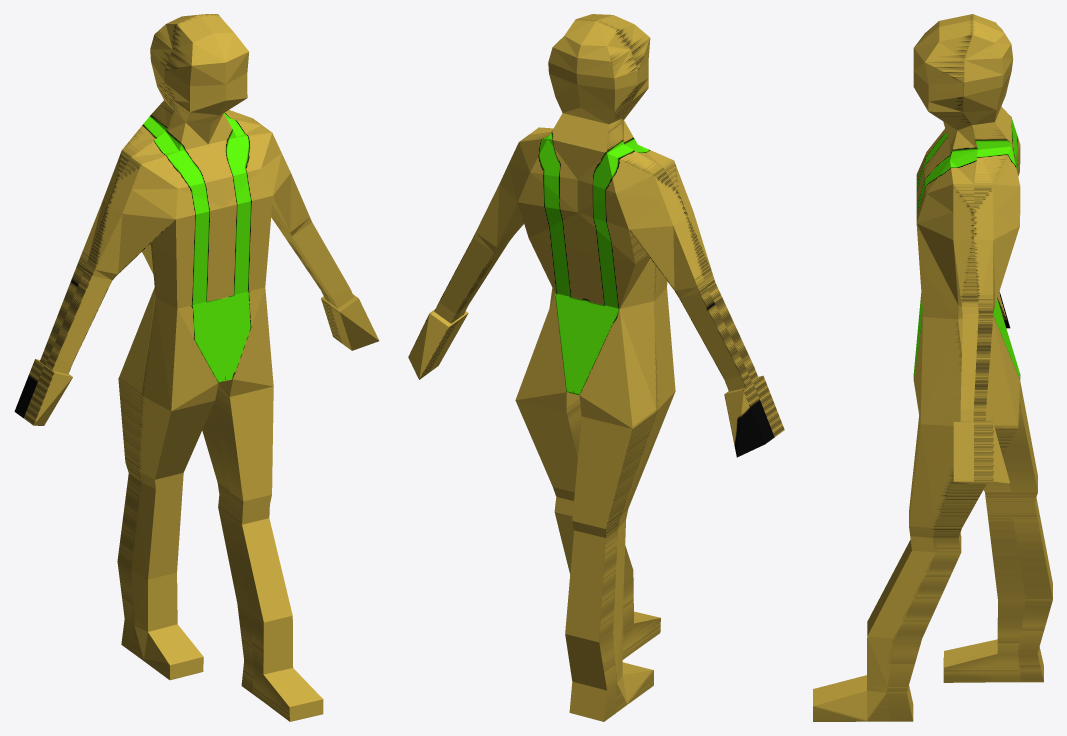
3 renders of one model, left to right at view 1: azimuth 30°, elevation 25°; view 2: azimuth 150°, elevation 25°; view 3: azimuth 270°, elevation 25°, orthographic. The views are drawn at different scales.
Parts seen in each view (by area): view 1: Borat; view 2: Borat; view 3: Borat.
Part boxes in pixels (box(x1,y1,x2,y2)): Borat: box(14, 14, 379, 721); Borat: box(408, 14, 784, 721); Borat: box(813, 14, 1052, 721).
Size of the model in its own units: 1.79 by 3.23 by 1.04.
